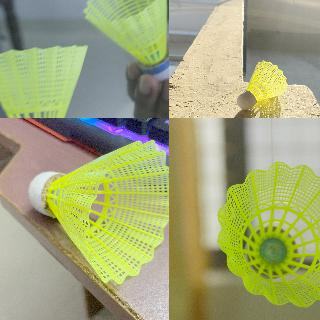shuttlecock: (28, 139, 168, 283), (217, 161, 319, 308), (83, 0, 168, 81), (0, 46, 87, 117), (237, 60, 287, 109)
